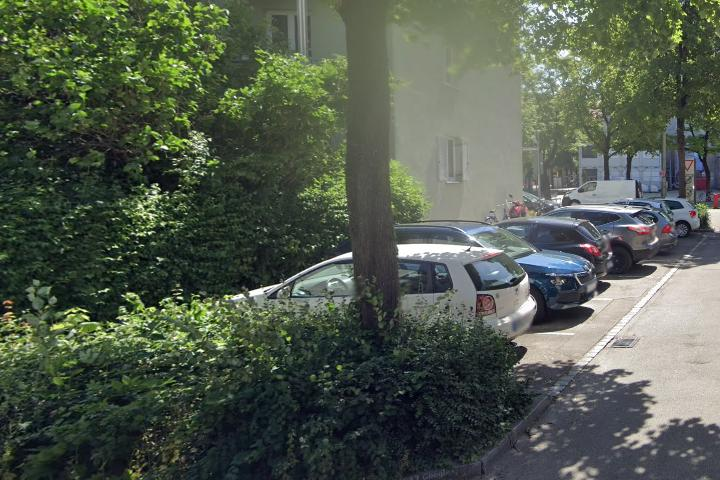traffic_sign: (681, 159, 694, 173)
vehicle: (204, 238, 538, 360), (559, 178, 645, 211)
